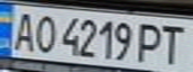1: (97, 17, 118, 61)
2: (78, 16, 100, 58)
4: (57, 14, 81, 56)
9: (112, 18, 139, 62)
A: (9, 9, 39, 52)
O: (30, 11, 57, 54)
P: (136, 20, 166, 64)
T: (154, 21, 190, 65)
